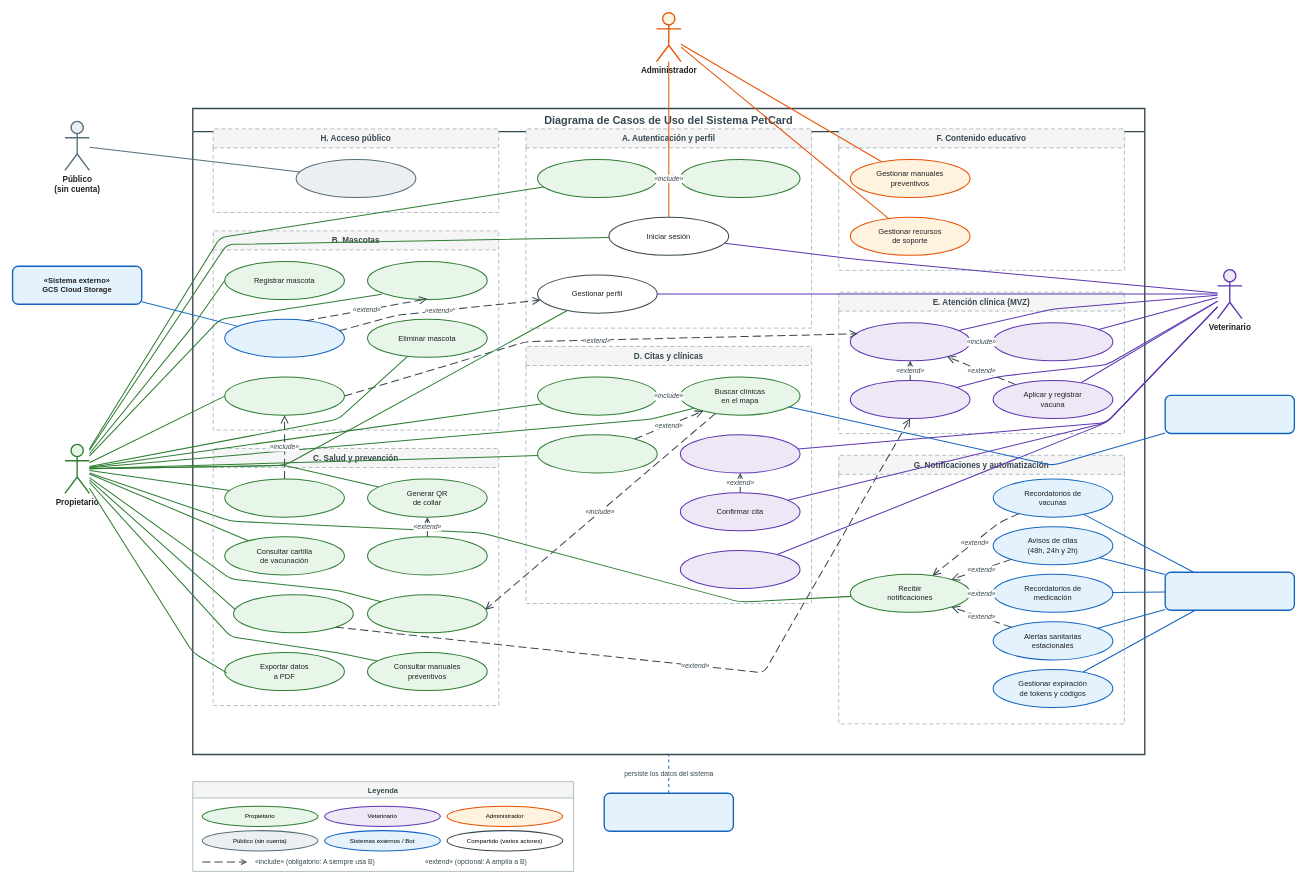
This 1306x883 diagram has some shape labels left out. Each missing label, with the centre of its shape:
"Actualizar mascota" goes at pixel 427 280.
"Agendar cita" goes at pixel 597 395.
"Calificar clínica (reseñas)" goes at pixel 597 453.
"Consultar historial completo" goes at pixel 1052 341.
"Consultar historial médico" goes at pixel 284 395.
"Consultar tratamiento y dosis" goes at pixel 293 613.
"Escanear QR del collar (sin cuenta)" goes at pixel 355 178.
"Generar pasaporte QR de salud" goes at pixel 284 497.
"Generar QR imprimible, .stl para impresion 3D o .SVG" goes at pixel 427 555.
"Gestionar agenda de citas" goes at pixel 740 453.
"Prescribir tratamiento" goes at pixel 910 399.
"Registrar diagnóstico, observaciones y peso" goes at pixel 910 341.
"Registrarse" goes at pixel 597 178.
"Subir foto (GCS)" goes at pixel 284 338.
"Triaje de síntomas con IA" goes at pixel 427 613.
"Verificar correo electrónico" goes at pixel 740 178.
"Vincular perfil a clínicas" goes at pixel 740 569.
"«Actor de fondo» Sistema automatizado / Bot" goes at pixel 1229 591.
"«Sistema externo» Google Cloud SQL (PostgreSQL)" goes at pixel 668 812.
"«Sistema externo» Google Maps" goes at pixel 1229 414.
